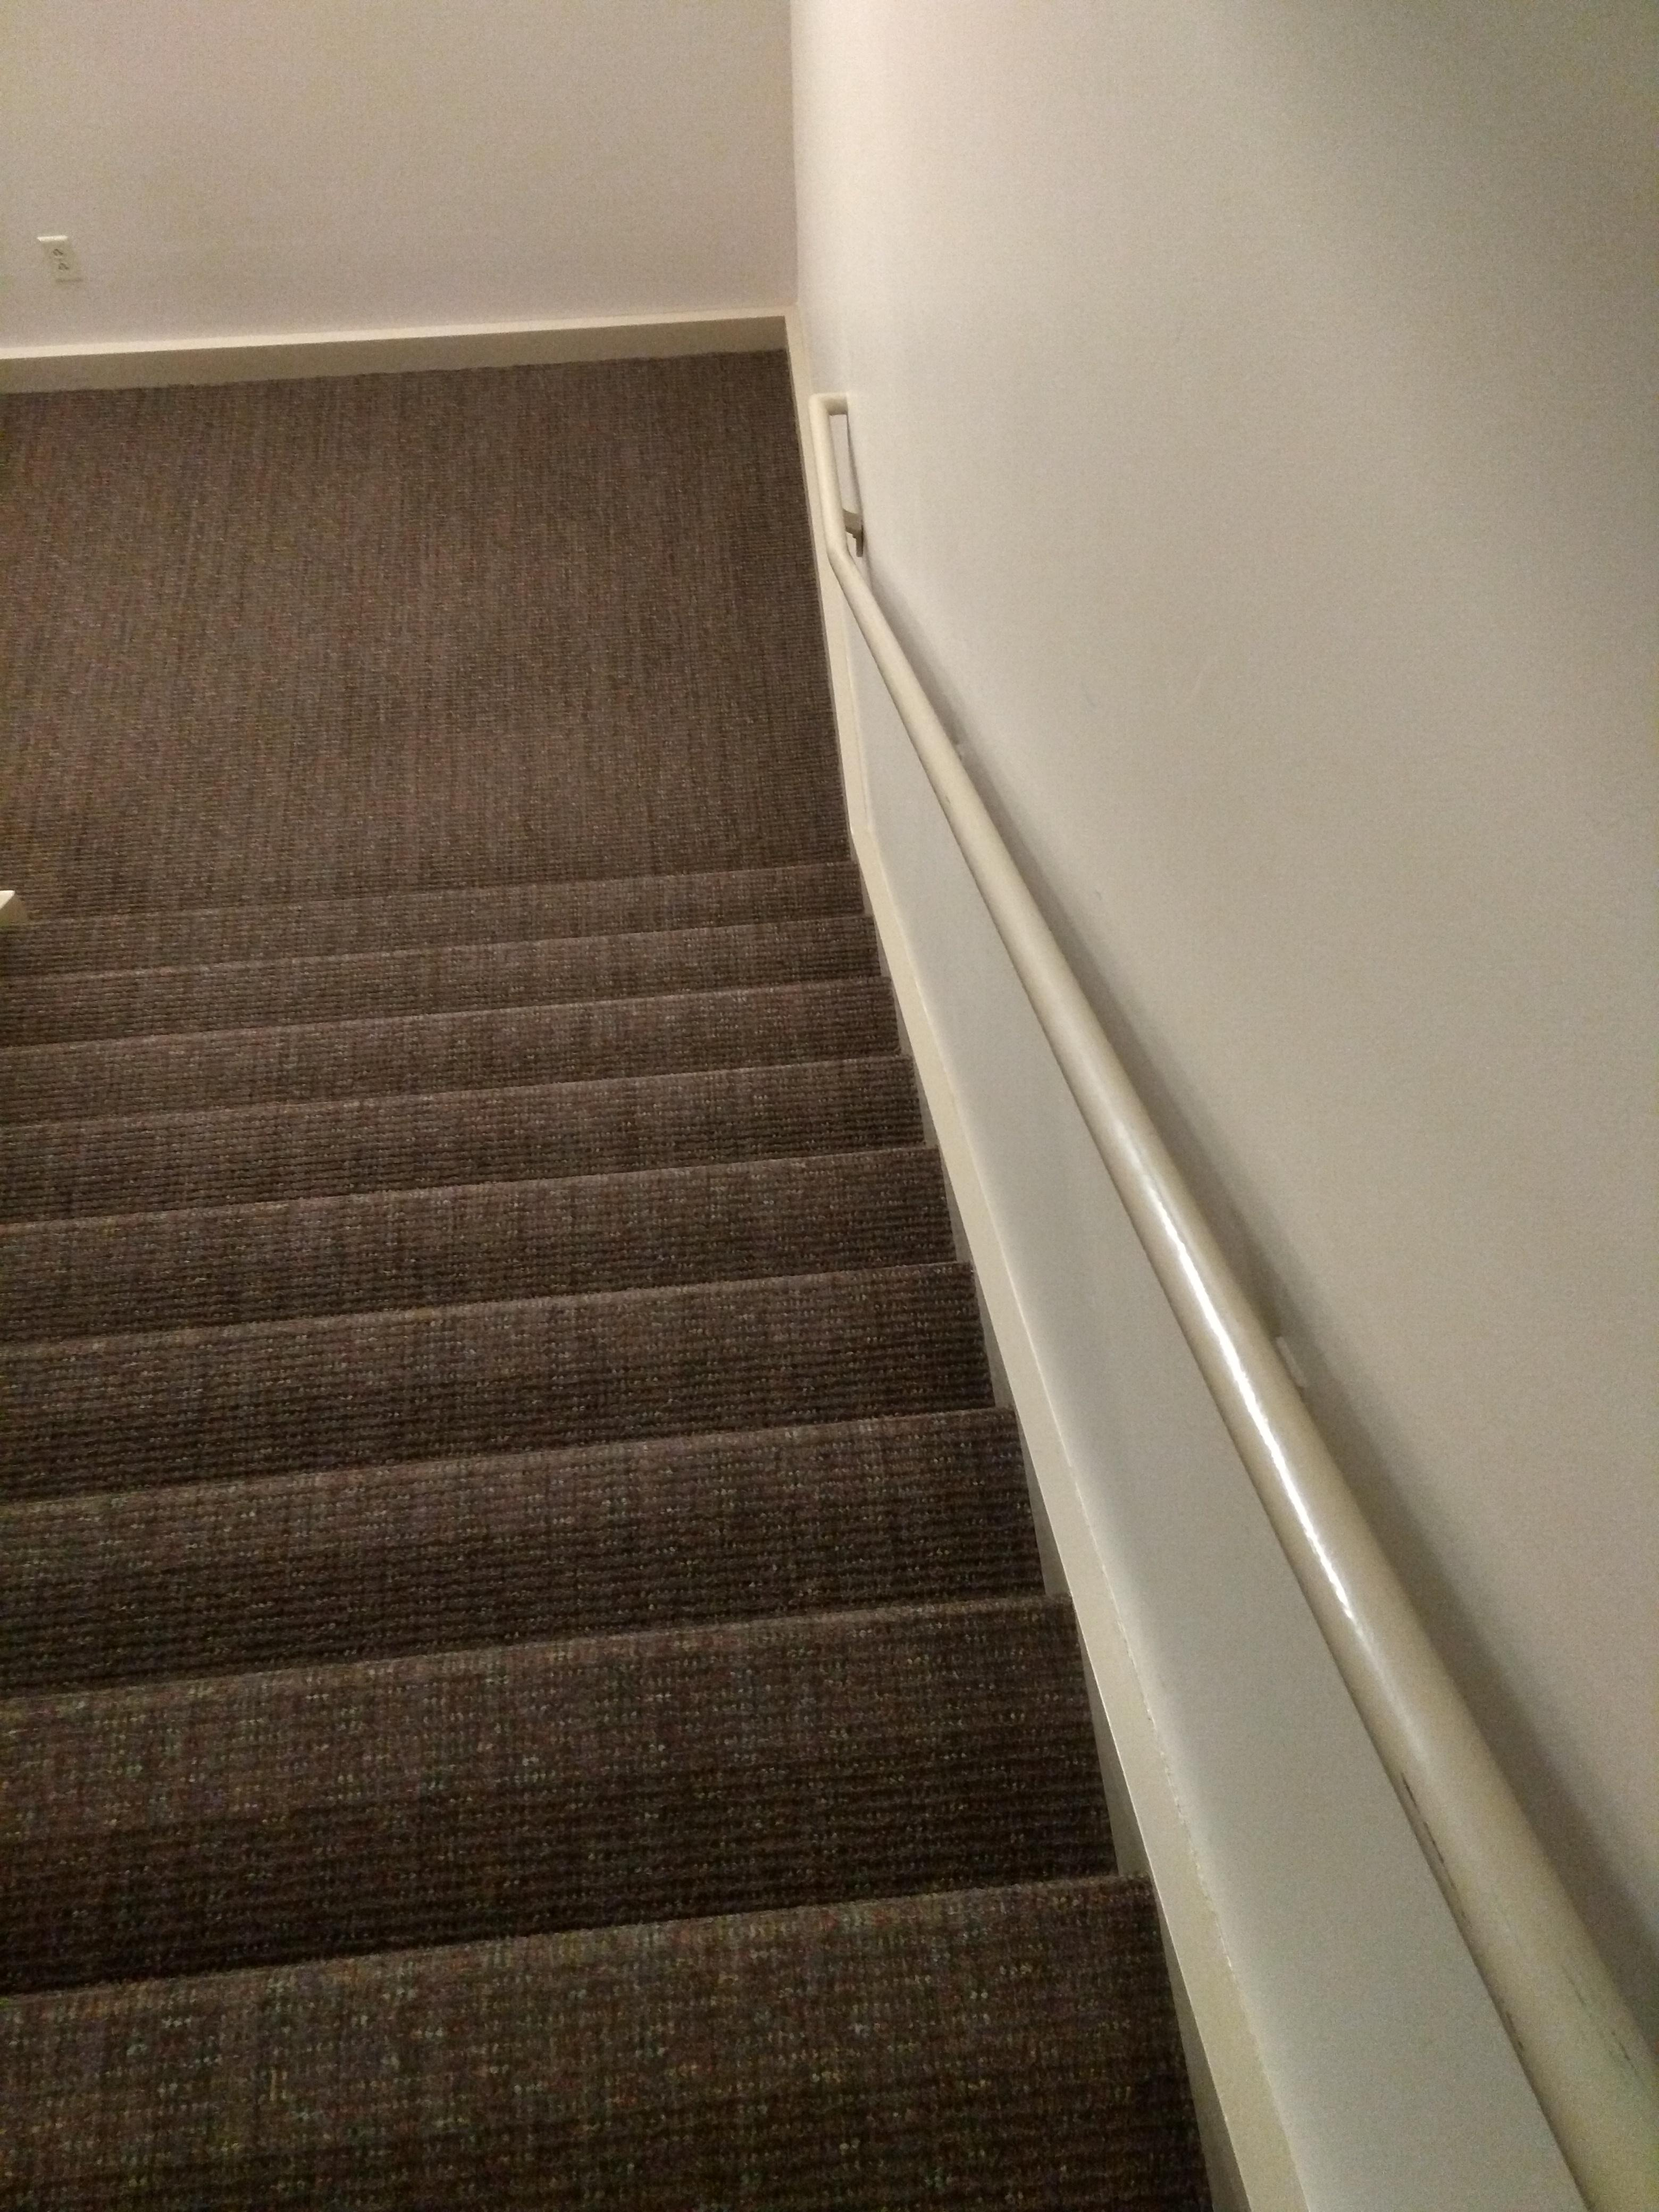stairs_down: (5, 907, 1202, 2212)
